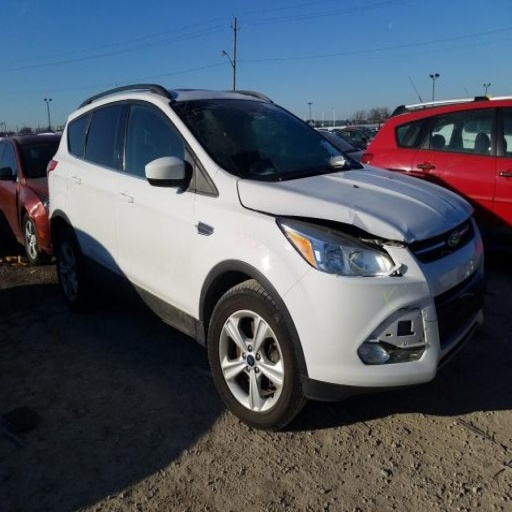dent: (349, 209, 404, 243), (459, 257, 477, 282), (406, 226, 425, 243), (446, 213, 463, 228)
